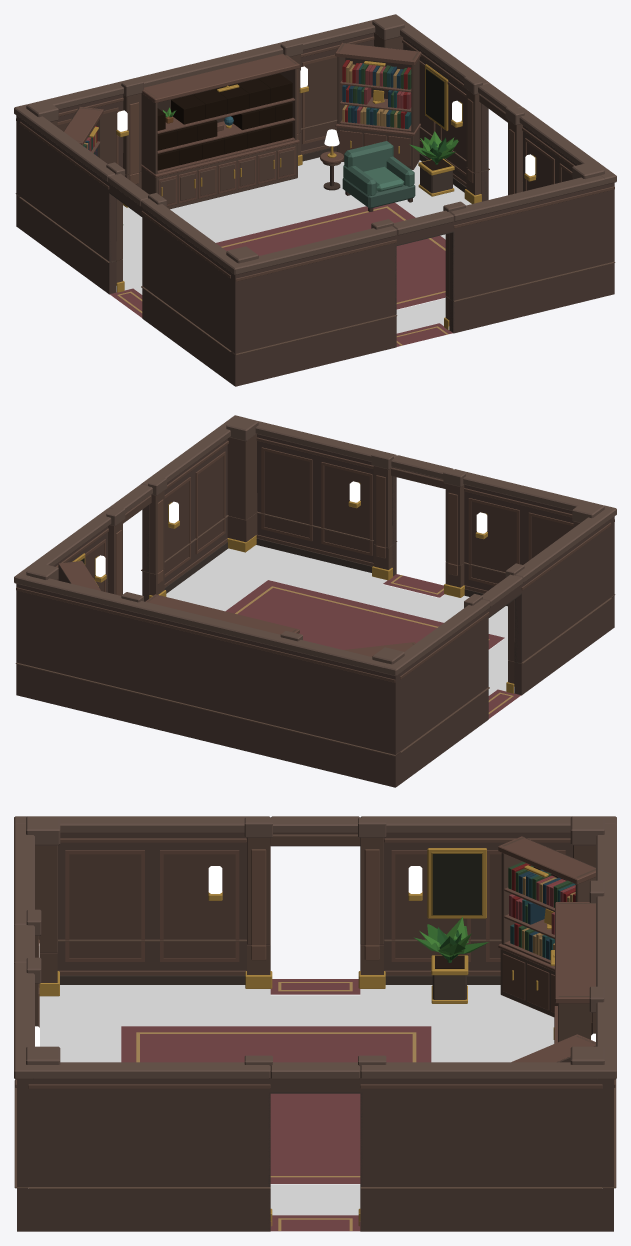
File: library.glb
3 renders of one model, top to bottom at view 1: azimuth 30°, elevation 25°; view 2: azimuth 150°, elevation 25°; view 3: azimuth 270°, elevation 25°, orthographic. The views are drawn at different scales.
Visible parts, largest first — view 1: static, floor, W_south_0_up, W_south_1_up, W_north_0_up, W_west_0_up, W_west_1_up, W_east_0_up, W_east_1_up; view 2: W_north_0_up, static, floor, W_south_1_up, W_south_0_up, W_west_0_up, W_west_1_up, W_east_1_up, W_east_0_up; view 3: static, floor, W_east_0_up, W_east_1_up, W_west_1_up, W_west_0_up, W_north_0_up, W_south_0_up, W_south_1_up.
Part boxes in pixels (left/top/right/bottom): static: left=15, top=42, right=615, bottom=386; floor: left=110, top=157, right=471, bottom=346; W_south_0_up: left=226, top=210, right=453, bottom=353; W_south_1_up: left=443, top=162, right=616, bottom=300; W_north_0_up: left=14, top=15, right=404, bottom=196; W_west_0_up: left=14, top=104, right=148, bottom=262; W_west_1_up: left=141, top=193, right=246, bottom=350; W_east_0_up: left=385, top=14, right=522, bottom=173; W_east_1_up: left=505, top=105, right=616, bottom=195; W_north_0_up: left=14, top=563, right=404, bottom=754; static: left=15, top=493, right=615, bottom=787; floor: left=166, top=545, right=520, bottom=718; W_south_1_up: left=226, top=416, right=396, bottom=547; W_south_0_up: left=391, top=455, right=616, bottom=597; W_west_0_up: left=384, top=574, right=522, bottom=751; W_west_1_up: left=505, top=505, right=616, bottom=662; W_east_1_up: left=141, top=415, right=245, bottom=574; W_east_0_up: left=14, top=484, right=152, bottom=595; static: left=14, top=836, right=616, bottom=1231; floor: left=39, top=979, right=554, bottom=1231; W_east_0_up: left=270, top=1055, right=616, bottom=1186; W_east_1_up: left=14, top=1055, right=272, bottom=1186; W_west_1_up: left=14, top=816, right=272, bottom=945; W_west_0_up: left=270, top=816, right=616, bottom=945; W_north_0_up: left=570, top=816, right=616, bottom=1186; W_south_0_up: left=14, top=816, right=60, bottom=987; W_south_1_up: left=14, top=957, right=60, bottom=1186.
Size of the model in its own units: 8.08 by 2.48 by 8.08.
